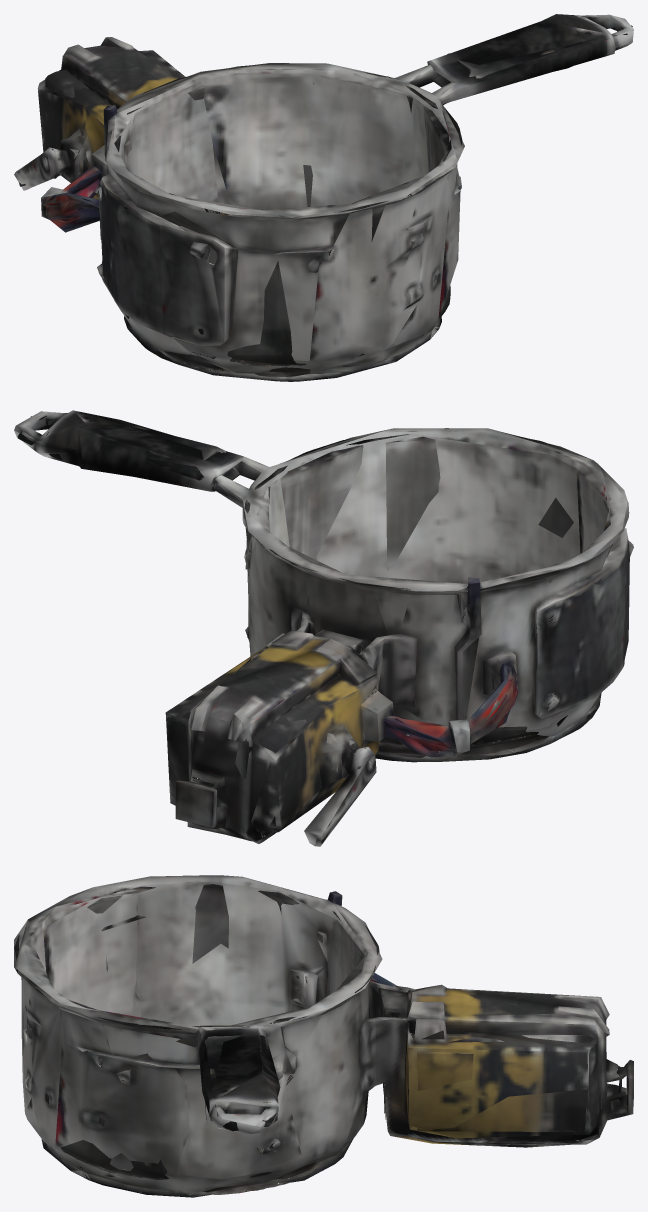
The model's file is fanshuo-pot.glb.
The picture shows the model from 3 angles, top to bottom: view 1: azimuth 30°, elevation 25°; view 2: azimuth 150°, elevation 25°; view 3: azimuth 270°, elevation 25°; orthographic projection. The views are drawn at different scales.
Visible parts, largest first — view 1: world; view 2: world; view 3: world.
Part boxes in pixels (left/top/right/bottom): world: left=14, top=14, right=633, bottom=381; world: left=14, top=410, right=633, bottom=846; world: left=14, top=875, right=633, bottom=1197.
Bounding box in the file's own units: 0.3292 × 0.1202 × 0.33.
Materials: 1 (1 with a texture image).
